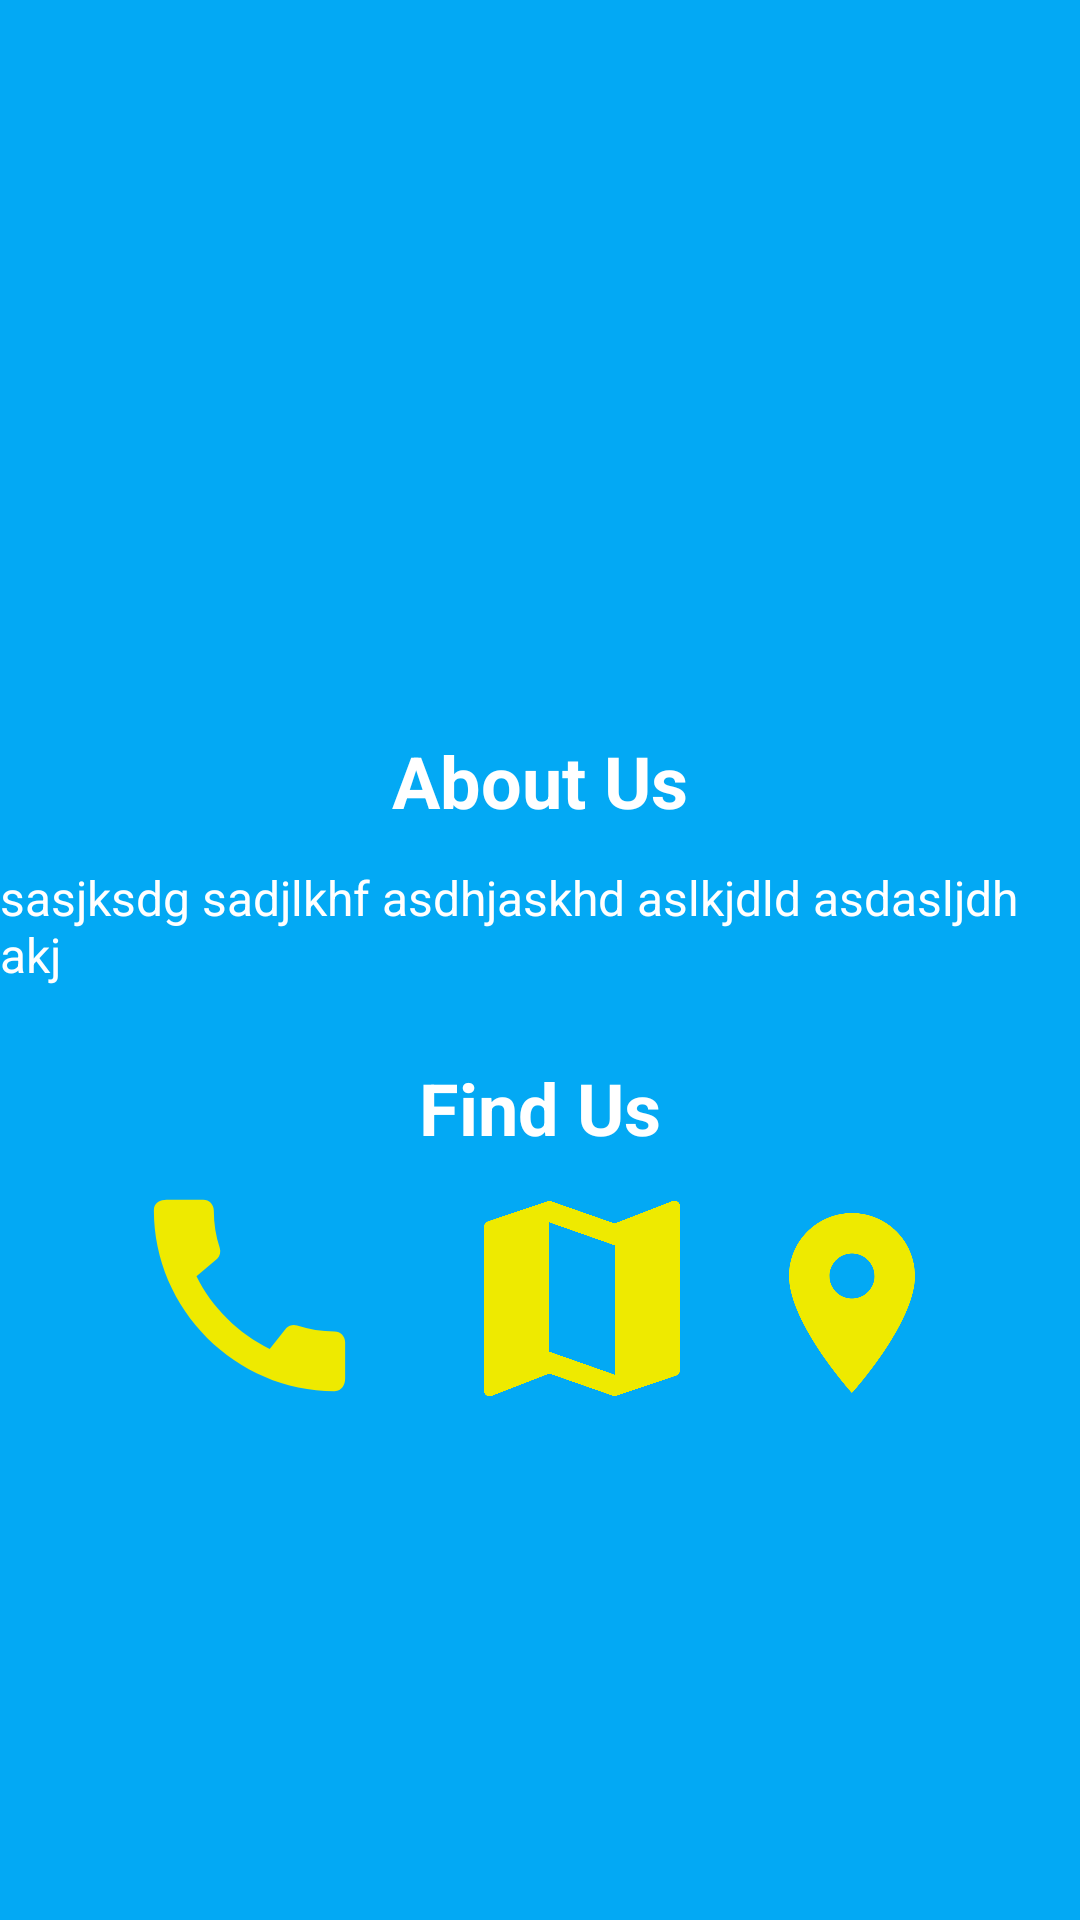

Icon click points for this 1080 × 1920 phone screenshot, format [x,y]:
call: [249,1295]
location on: [852,1303]
map: [582,1298]
